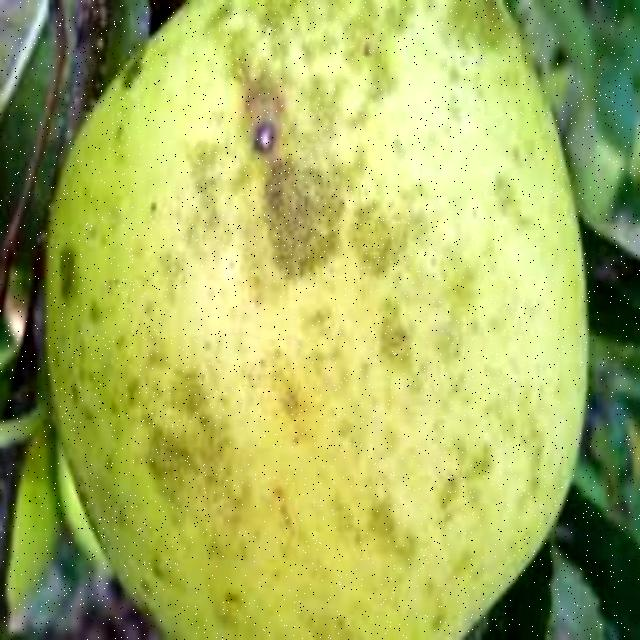BLOTCH: (24, 0, 598, 628)
